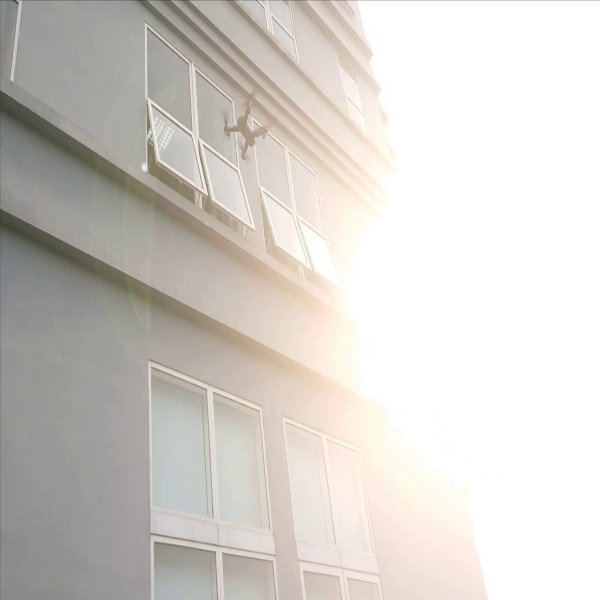drone: (217, 88, 274, 161)
